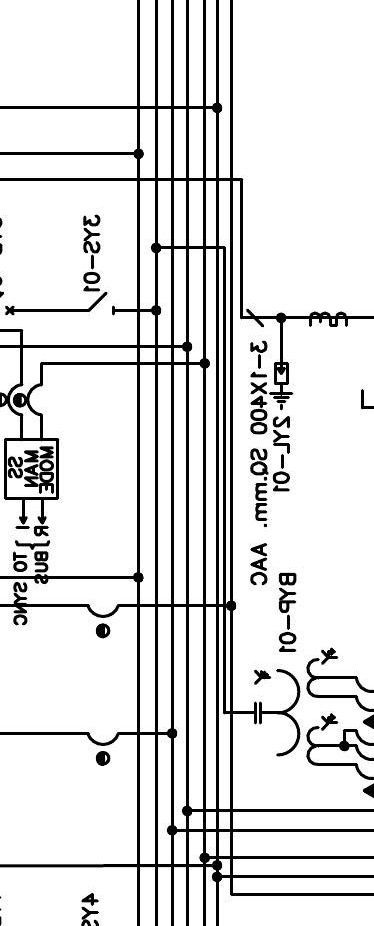115_cvt_3p: (254, 647, 339, 767)
115_ds: (87, 291, 115, 317)
115_la: (268, 362, 294, 411)
ss_man_mode: (3, 437, 60, 500)
